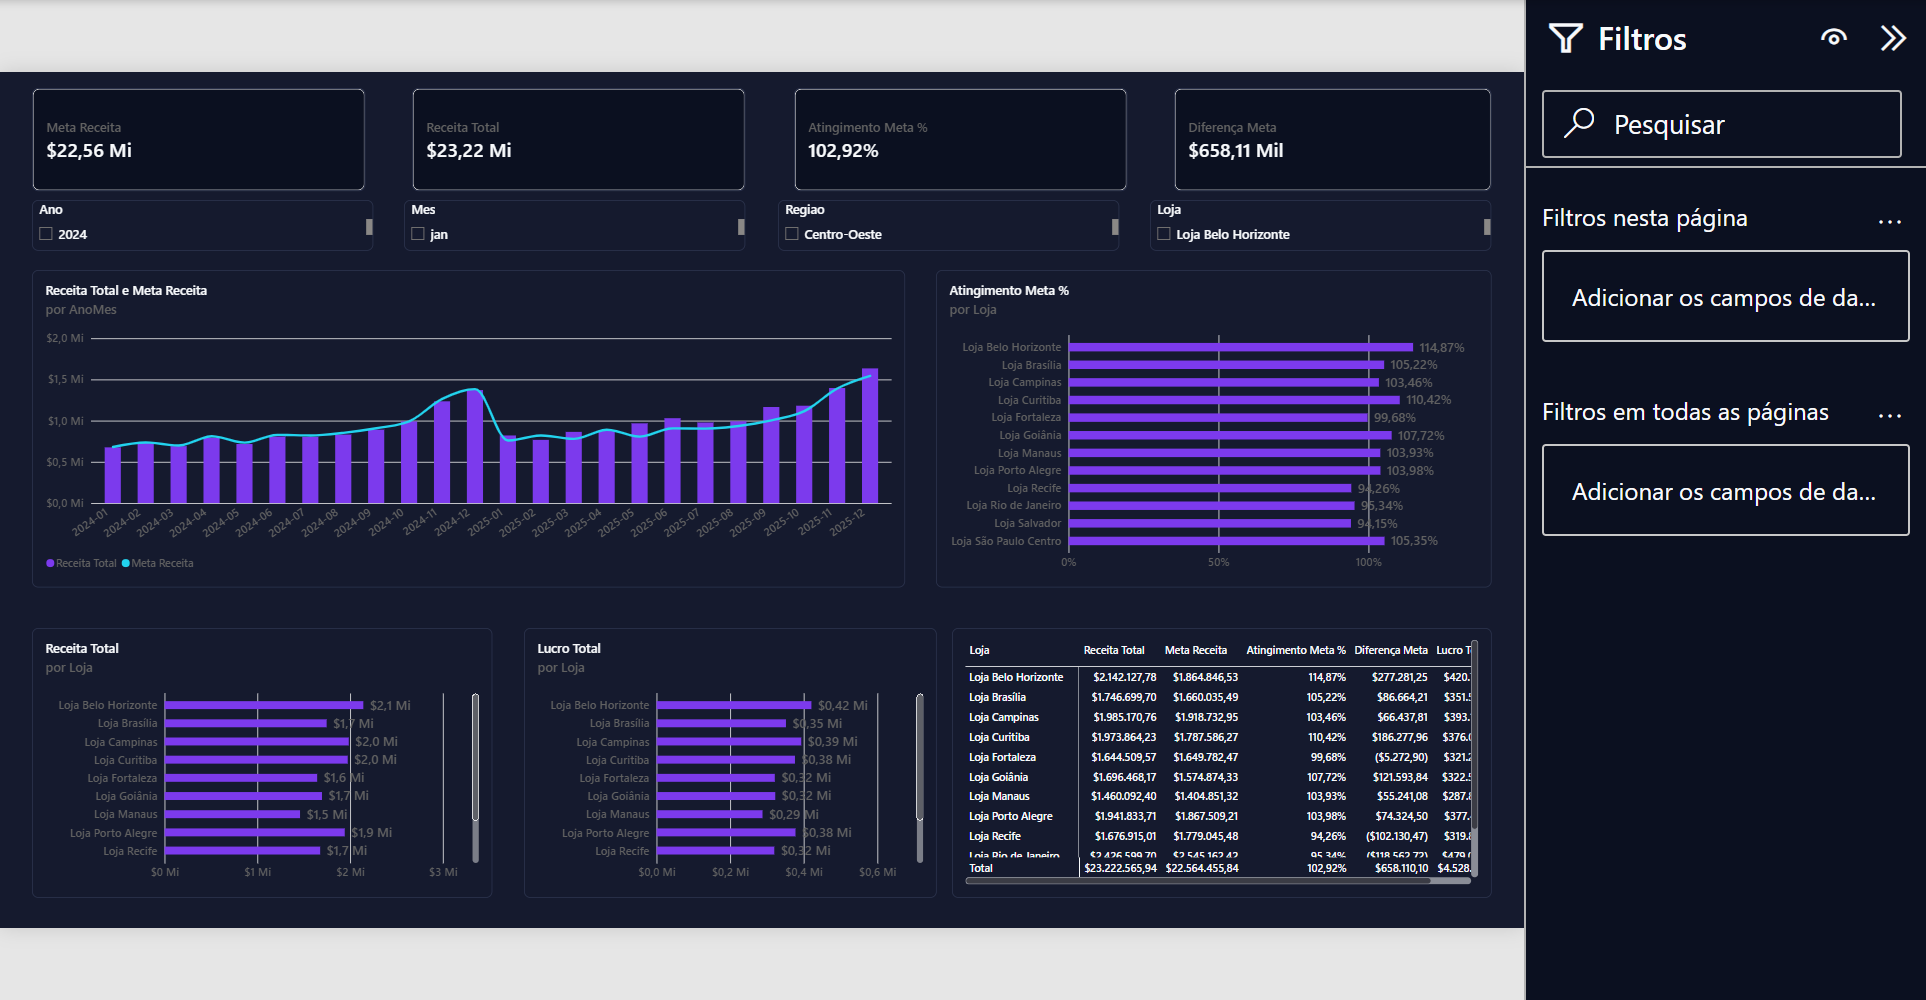

This screenshot's page, from the dashboard's own definition file:
{"tool":"powerbi","page":{"name":"Performance Comercial & Metas","canvas":[1920,1080],"ordinal":3},"visuals":[{"type":"cardVisual","fields":{"Data":["_Medidas.Meta Receita"]},"box":[40,20,420,130],"z":1000},{"type":"cardVisual","fields":{"Data":["_Medidas.Receita Total"]},"box":[520,20,420,130],"z":1001},{"type":"cardVisual","fields":{"Data":["_Medidas.Atingimento Meta %"]},"box":[1000,20,420,130],"z":1002},{"type":"cardVisual","fields":{"Data":["_Medidas.Diferença Meta"]},"box":[1480,20,400,130],"z":1003},{"type":"lineClusteredColumnComboChart","fields":{"Category":["dCalendario.AnoMes"],"Y":["_Medidas.Receita Total"],"Y2":["_Medidas.Meta Receita"]},"box":[40,250,1100,400],"z":2000},{"type":"barChart","fields":{"Category":["dLojas.Loja"],"Y":["_Medidas.Atingimento Meta %"]},"box":[1180,250,700,400],"z":3000},{"type":"barChart","fields":{"Category":["dLojas.Loja"],"Y":["_Medidas.Receita Total"]},"box":[40,700,580,340],"z":4000},{"type":"barChart","fields":{"Category":["dLojas.Loja"],"Y":["_Medidas.Lucro Total"]},"box":[660,700,520,340],"z":5000},{"type":"pivotTable","fields":{"Rows":["dLojas.Loja"],"Values":["_Medidas.Receita Total","_Medidas.Meta Receita","_Medidas.Atingimento Meta %","_Medidas.Diferença Meta","_Medidas.Lucro Total"]},"box":[1200,700,680,340],"z":6000},{"type":"slicer","fields":{"Values":["dCalendario.Ano"]},"box":[40,160,430,64],"z":8000},{"type":"slicer","fields":{"Values":["dCalendario.Mes"]},"box":[510,160,430,64],"z":8001},{"type":"slicer","fields":{"Values":["dClientes.Regiao"]},"box":[980,160,430,64],"z":8002},{"type":"slicer","fields":{"Values":["dLojas.Loja"]},"box":[1450,160,430,64],"z":8003}]}

Visuals, with their boxes on the page's 1920x1080 design canvas (x1, y1, x2, y2). These are canvas units, not pixel positions in the 1926x1000 screenshot, which may show the page scaled, cropped or inside an application window:
cardVisual - _Medidas.Meta Receita: box=[40, 20, 460, 150]
cardVisual - _Medidas.Receita Total: box=[520, 20, 940, 150]
cardVisual - _Medidas.Atingimento Meta %: box=[1000, 20, 1420, 150]
cardVisual - _Medidas.Diferença Meta: box=[1480, 20, 1880, 150]
lineClusteredColumnComboChart - dCalendario.AnoMes x _Medidas.Receita Total: box=[40, 250, 1140, 650]
barChart - dLojas.Loja x _Medidas.Atingimento Meta %: box=[1180, 250, 1880, 650]
barChart - dLojas.Loja x _Medidas.Receita Total: box=[40, 700, 620, 1040]
barChart - dLojas.Loja x _Medidas.Lucro Total: box=[660, 700, 1180, 1040]
pivotTable - dLojas.Loja x _Medidas.Receita Total: box=[1200, 700, 1880, 1040]
slicer - dCalendario.Ano: box=[40, 160, 470, 224]
slicer - dCalendario.Mes: box=[510, 160, 940, 224]
slicer - dClientes.Regiao: box=[980, 160, 1410, 224]
slicer - dLojas.Loja: box=[1450, 160, 1880, 224]
